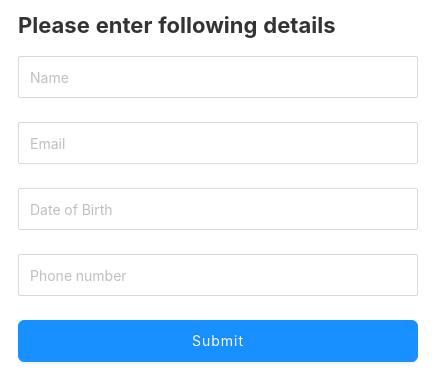
email only accepts valid email address
Type "email" into the field with test id "email-input". click: (218, 143)
box: left=18, top=122, right=418, bottom=164
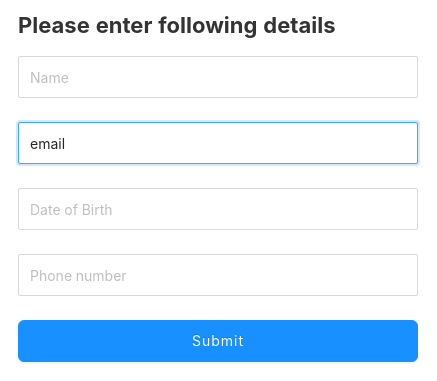
Click the button with test id "submit-btn". click: (218, 341)
box: left=18, top=320, right=418, bottom=362
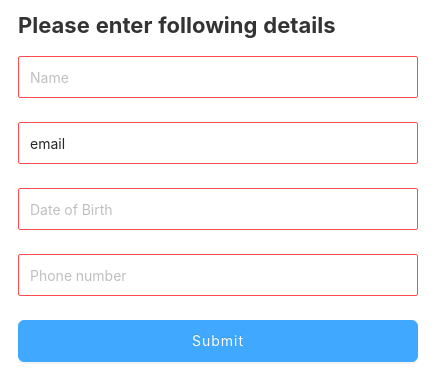
Type "@email." into the field with test id "email-input". click: (218, 143)
box: left=18, top=122, right=418, bottom=164
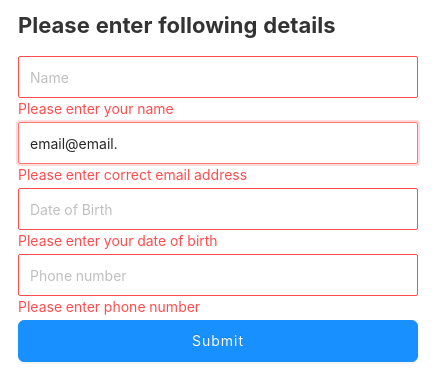
Expected: the text "Please enter correct email address" is shown, left=18, top=166, right=247, bottom=183
